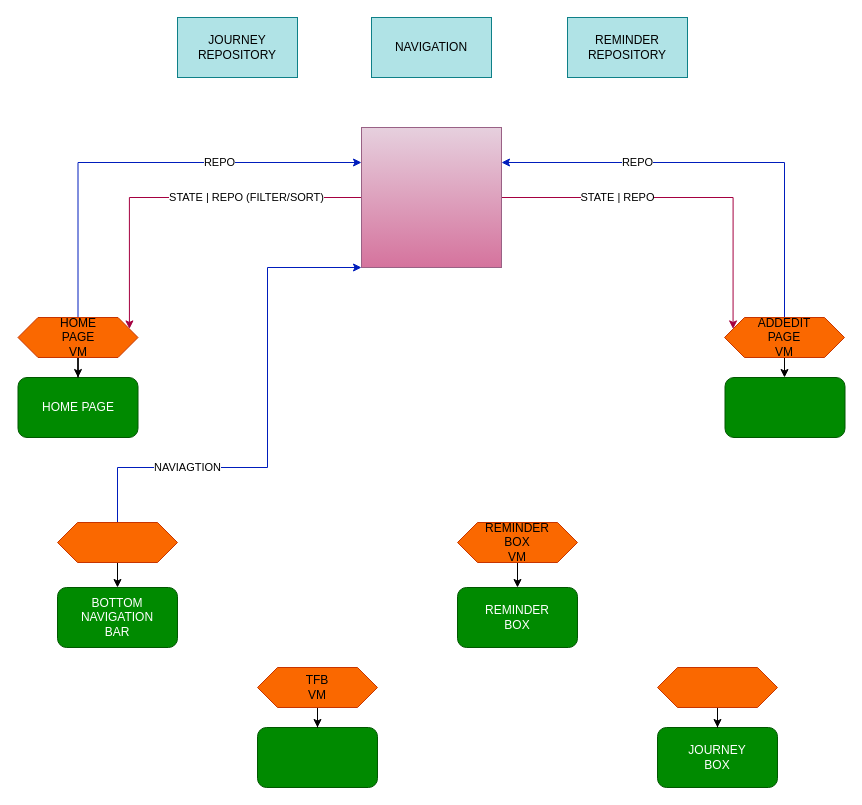
The diagram is 862 pixels wide and 805 high, and some of its shapes have lost their labels. Each missing label, with the centre of its shape:
ADDEDIT PAGE: point 784,407
BNB VM: point 117,542
JOURNEY BOX VM: point 717,687
LOGIC HANDLER: point 431,197
TOP FILTER BAR: point 317,757
